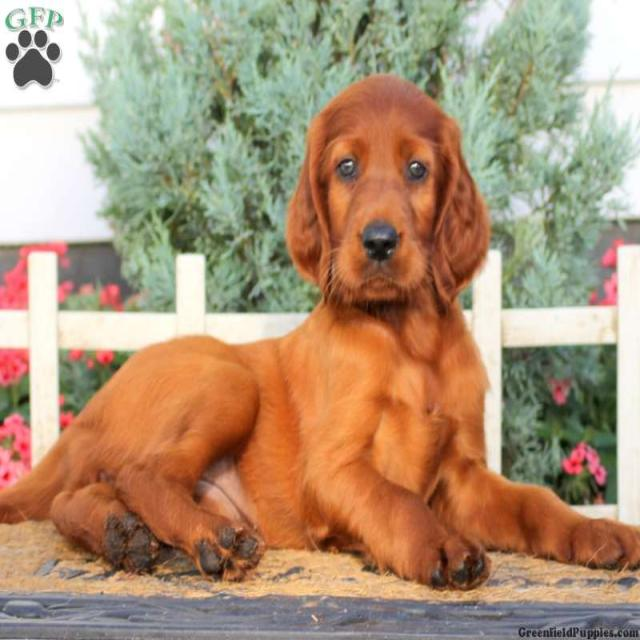dog: (236, 44, 520, 358)
